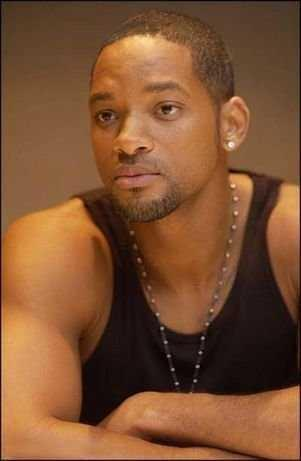No Mask: (64, 17, 256, 245)
